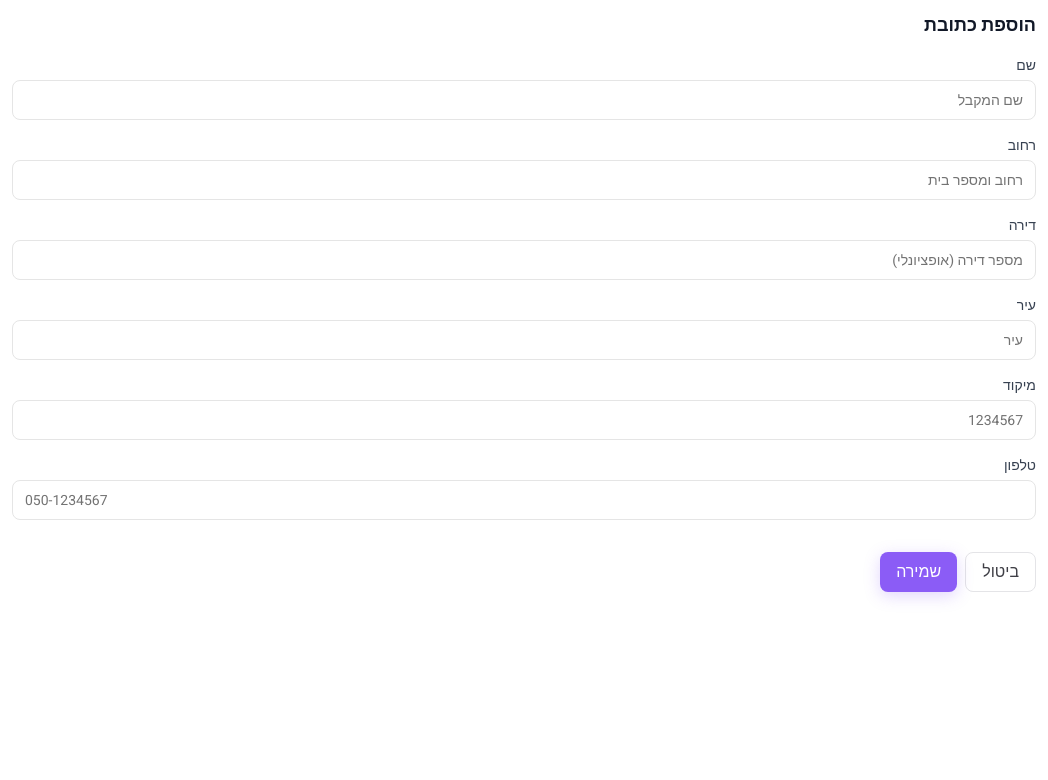
AddressForm › Validation › shows error for empty street
Click the field labelled "רחוב".
click(524, 180)  # box x1=12 y1=160 x2=1036 y2=200
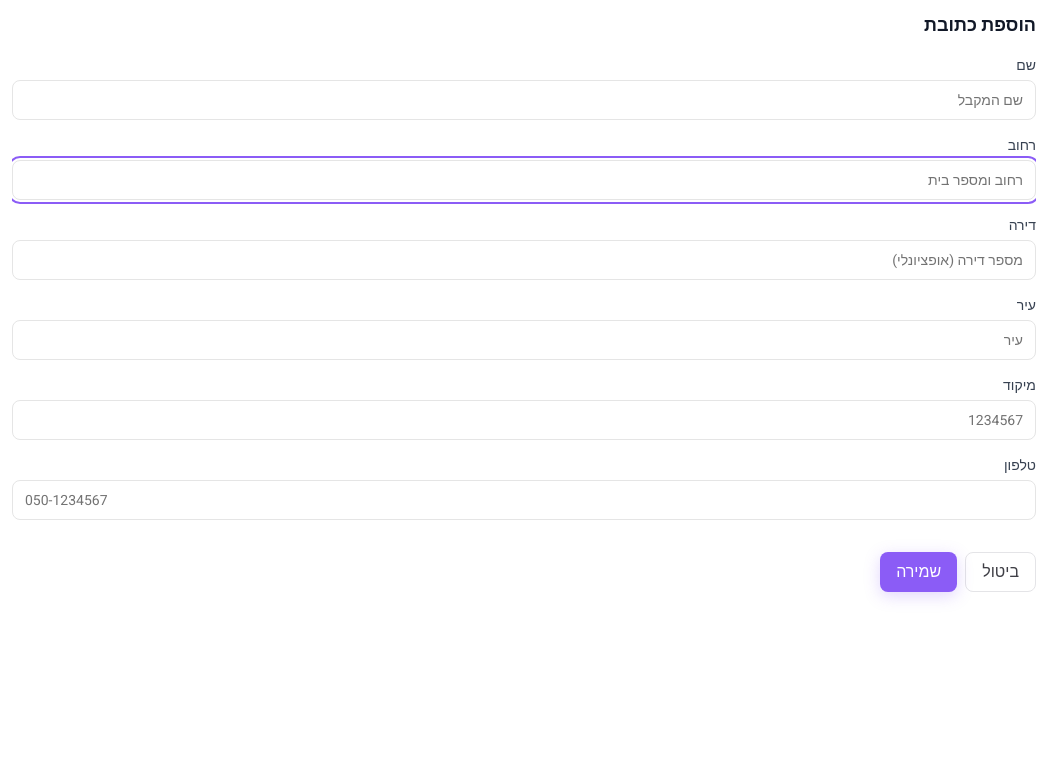
Press Tab
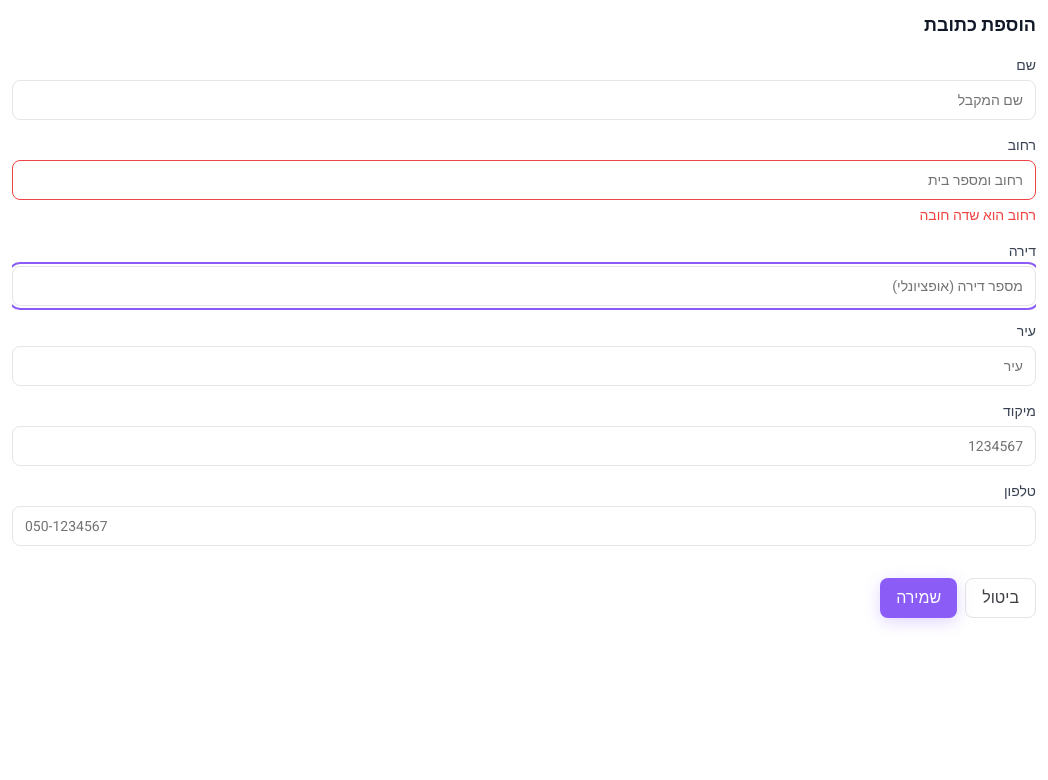
Result: the text "רחוב הוא שדה חובה" is shown at x1=920 y1=205 x2=1036 y2=226
